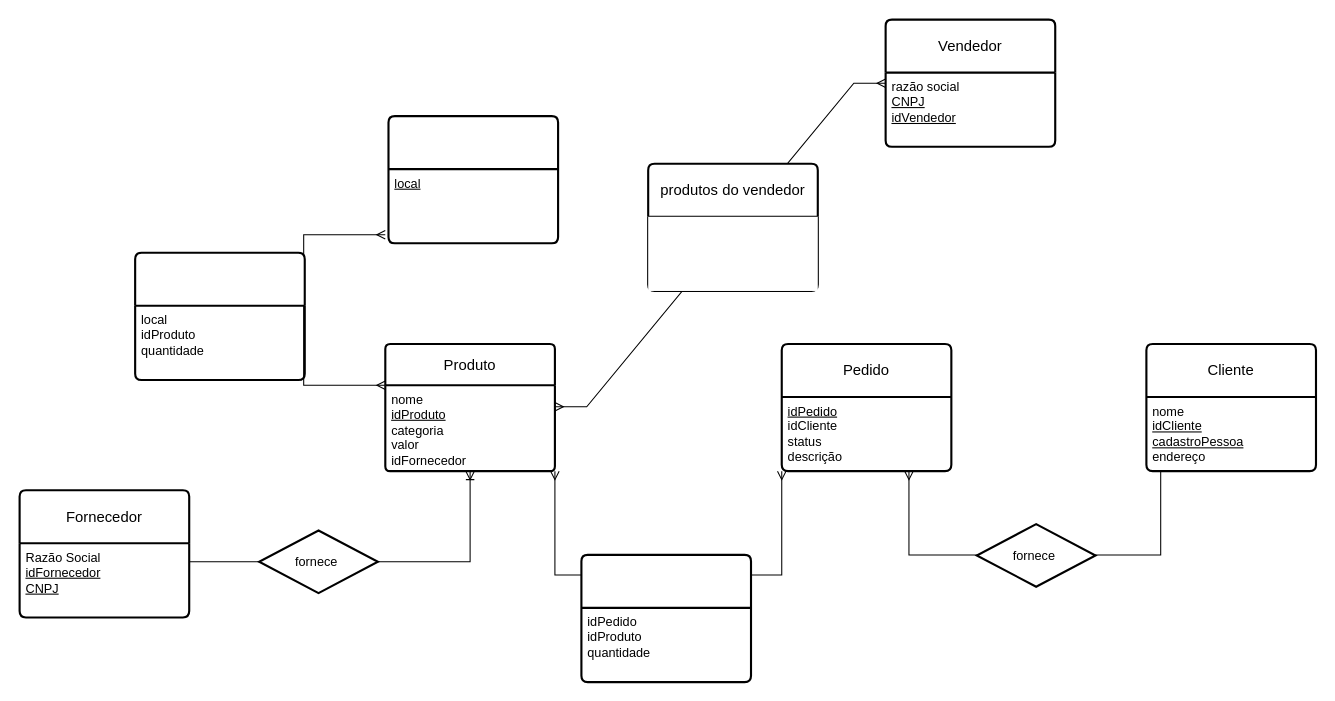
The diagram is 1335 pixels wide and 701 high, and some of its shapes have lost their labels. Here are the shapes that lost their labels. From the top down, the box of each, then its label:
(387, 114, 559, 244): Estoque
(648, 216, 817, 290): idVendedor idProduto quantidade
(134, 251, 305, 381): produtos estocados
(580, 553, 752, 683): produtos por pedido
